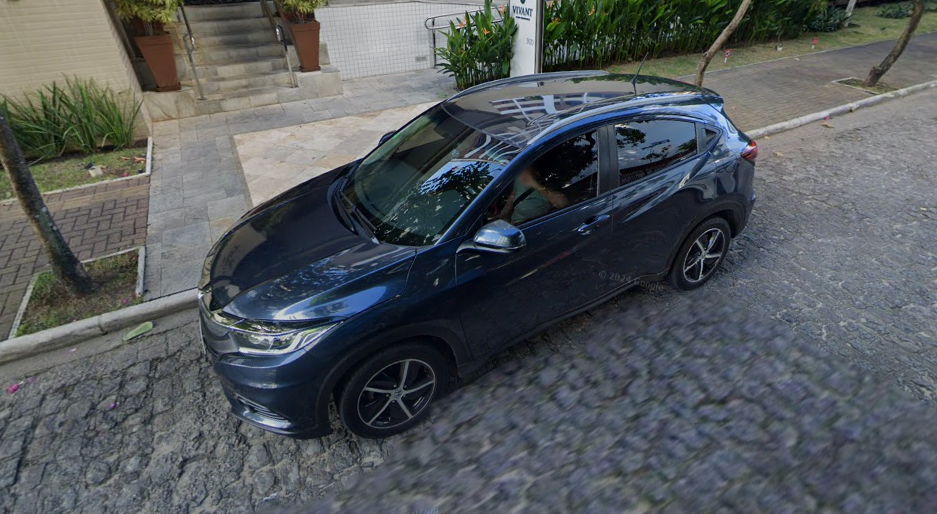car: (190, 48, 761, 443)
